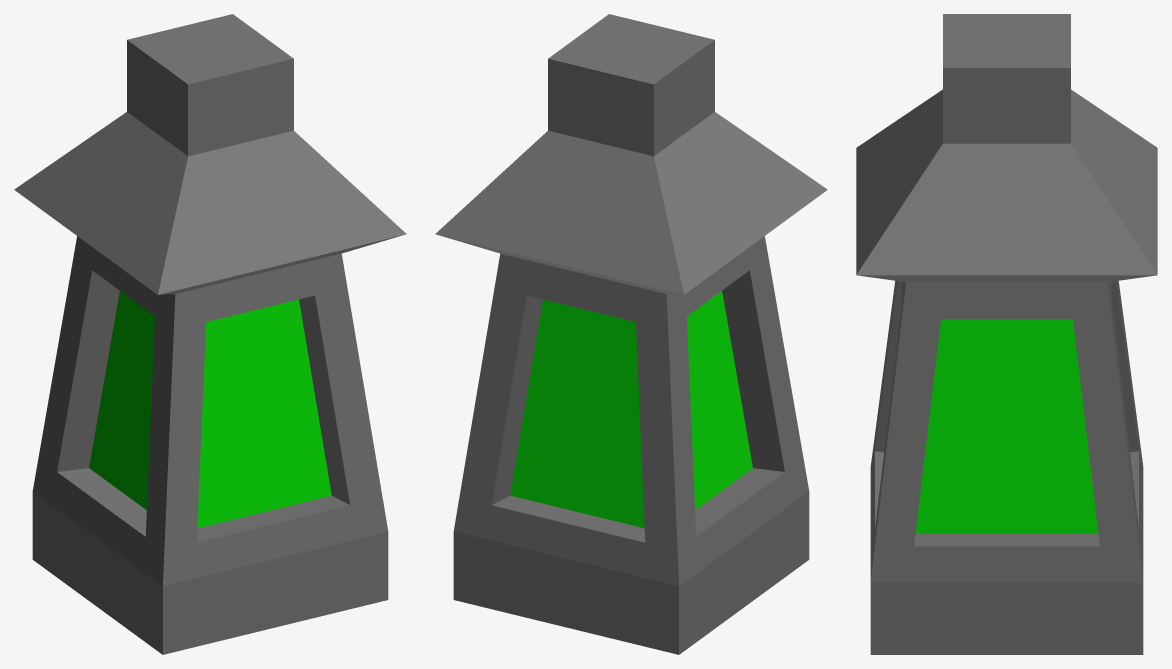
File: objective.fbx
3 views of the same model, side by side, from view 1: azimuth 30°, elevation 25°; view 2: azimuth 150°, elevation 25°; view 3: azimuth 270°, elevation 25° (orthographic). The views are drawn at different scales.
Visible parts, largest first — view 1: pCube1; view 2: pCube1; view 3: pCube1.
Boxes of the visible parts, x1,y1,x2,y2 form: pCube1: (14,14,406,654); pCube1: (435,14,827,654); pCube1: (856,14,1157,654).
Bounding box in the file's own units: 3.1 × 6.31 × 3.1.
